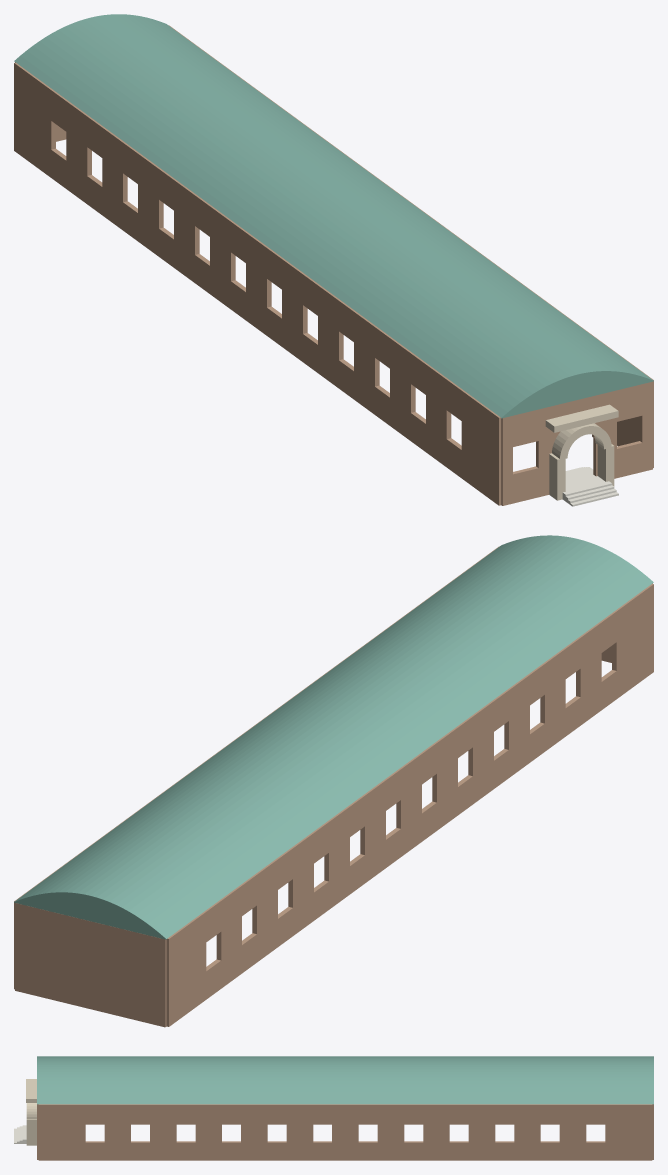
Rendered from Aquarium_Arched_Entrance_Study_LOD2.glb.
3 renders of one model, top to bottom at view 1: azimuth 30°, elevation 25°; view 2: azimuth 150°, elevation 25°; view 3: azimuth 270°, elevation 25°, orthographic. The views are drawn at different scales.
Visible parts, largest first — view 1: Roof/PatinatedCopperPanels__copper, Facade/LongBrickWallAboveWindows__brick, Facade/LongBrickWallBelowWindows__brick, Facade/BrickWindowJambs__brick, Facade/FrontBrickAboveWindows__brick, Facade/FrontBrickBelowWindows__brick, Facade/FrontBrickWindowJambs__brick, Portal/StoneColumns__limestone, Portal/EngravedSignStone__limestone, Portal/StoneVoussoirs__limestone, Entrance/OutsideSteps__marble; view 2: Roof/PatinatedCopperPanels__copper, Facade/LongBrickWallAboveWindows__brick, Facade/LongBrickWallBelowWindows__brick, Facade/RearWall__brick, Facade/BrickWindowJambs__brick; view 3: Roof/PatinatedCopperPanels__copper, Facade/LongBrickWallAboveWindows__brick, Facade/LongBrickWallBelowWindows__brick, Facade/BrickWindowJambs__brick, Portal/StoneColumns__limestone, Portal/EngravedSignStone__limestone, Entrance/OutsideSteps__marble.
Part boxes in pixels (box(x1,y1,x2,y2)): Roof/PatinatedCopperPanels__copper: box(14, 14, 653, 418); Facade/LongBrickWallAboveWindows__brick: box(14, 25, 653, 448); Facade/LongBrickWallBelowWindows__brick: box(14, 122, 653, 505); Facade/BrickWindowJambs__brick: box(14, 94, 653, 477); Facade/FrontBrickAboveWindows__brick: box(501, 381, 652, 449); Facade/FrontBrickBelowWindows__brick: box(501, 440, 652, 505); Facade/FrontBrickWindowJambs__brick: box(501, 413, 652, 476); Portal/StoneColumns__limestone: box(549, 444, 614, 500); Portal/EngravedSignStone__limestone: box(545, 404, 618, 432); Portal/StoneVoussoirs__limestone: box(552, 423, 611, 459); Entrance/OutsideSteps__marble: box(563, 482, 618, 506); Roof/PatinatedCopperPanels__copper: box(14, 535, 653, 939); Facade/LongBrickWallAboveWindows__brick: box(14, 546, 653, 969); Facade/LongBrickWallBelowWindows__brick: box(14, 644, 653, 1026); Facade/RearWall__brick: box(15, 903, 166, 1027); Facade/BrickWindowJambs__brick: box(14, 615, 653, 998); Roof/PatinatedCopperPanels__copper: box(37, 1056, 653, 1104); Facade/LongBrickWallAboveWindows__brick: box(38, 1104, 652, 1124); Facade/LongBrickWallBelowWindows__brick: box(38, 1141, 652, 1160); Facade/BrickWindowJambs__brick: box(38, 1124, 652, 1142); Portal/StoneColumns__limestone: box(26, 1119, 36, 1145); Portal/EngravedSignStone__limestone: box(26, 1079, 36, 1102); Entrance/OutsideSteps__marble: box(14, 1125, 25, 1143).
Size of the model in its own units: 14.02 by 9.8 by 79.25.
